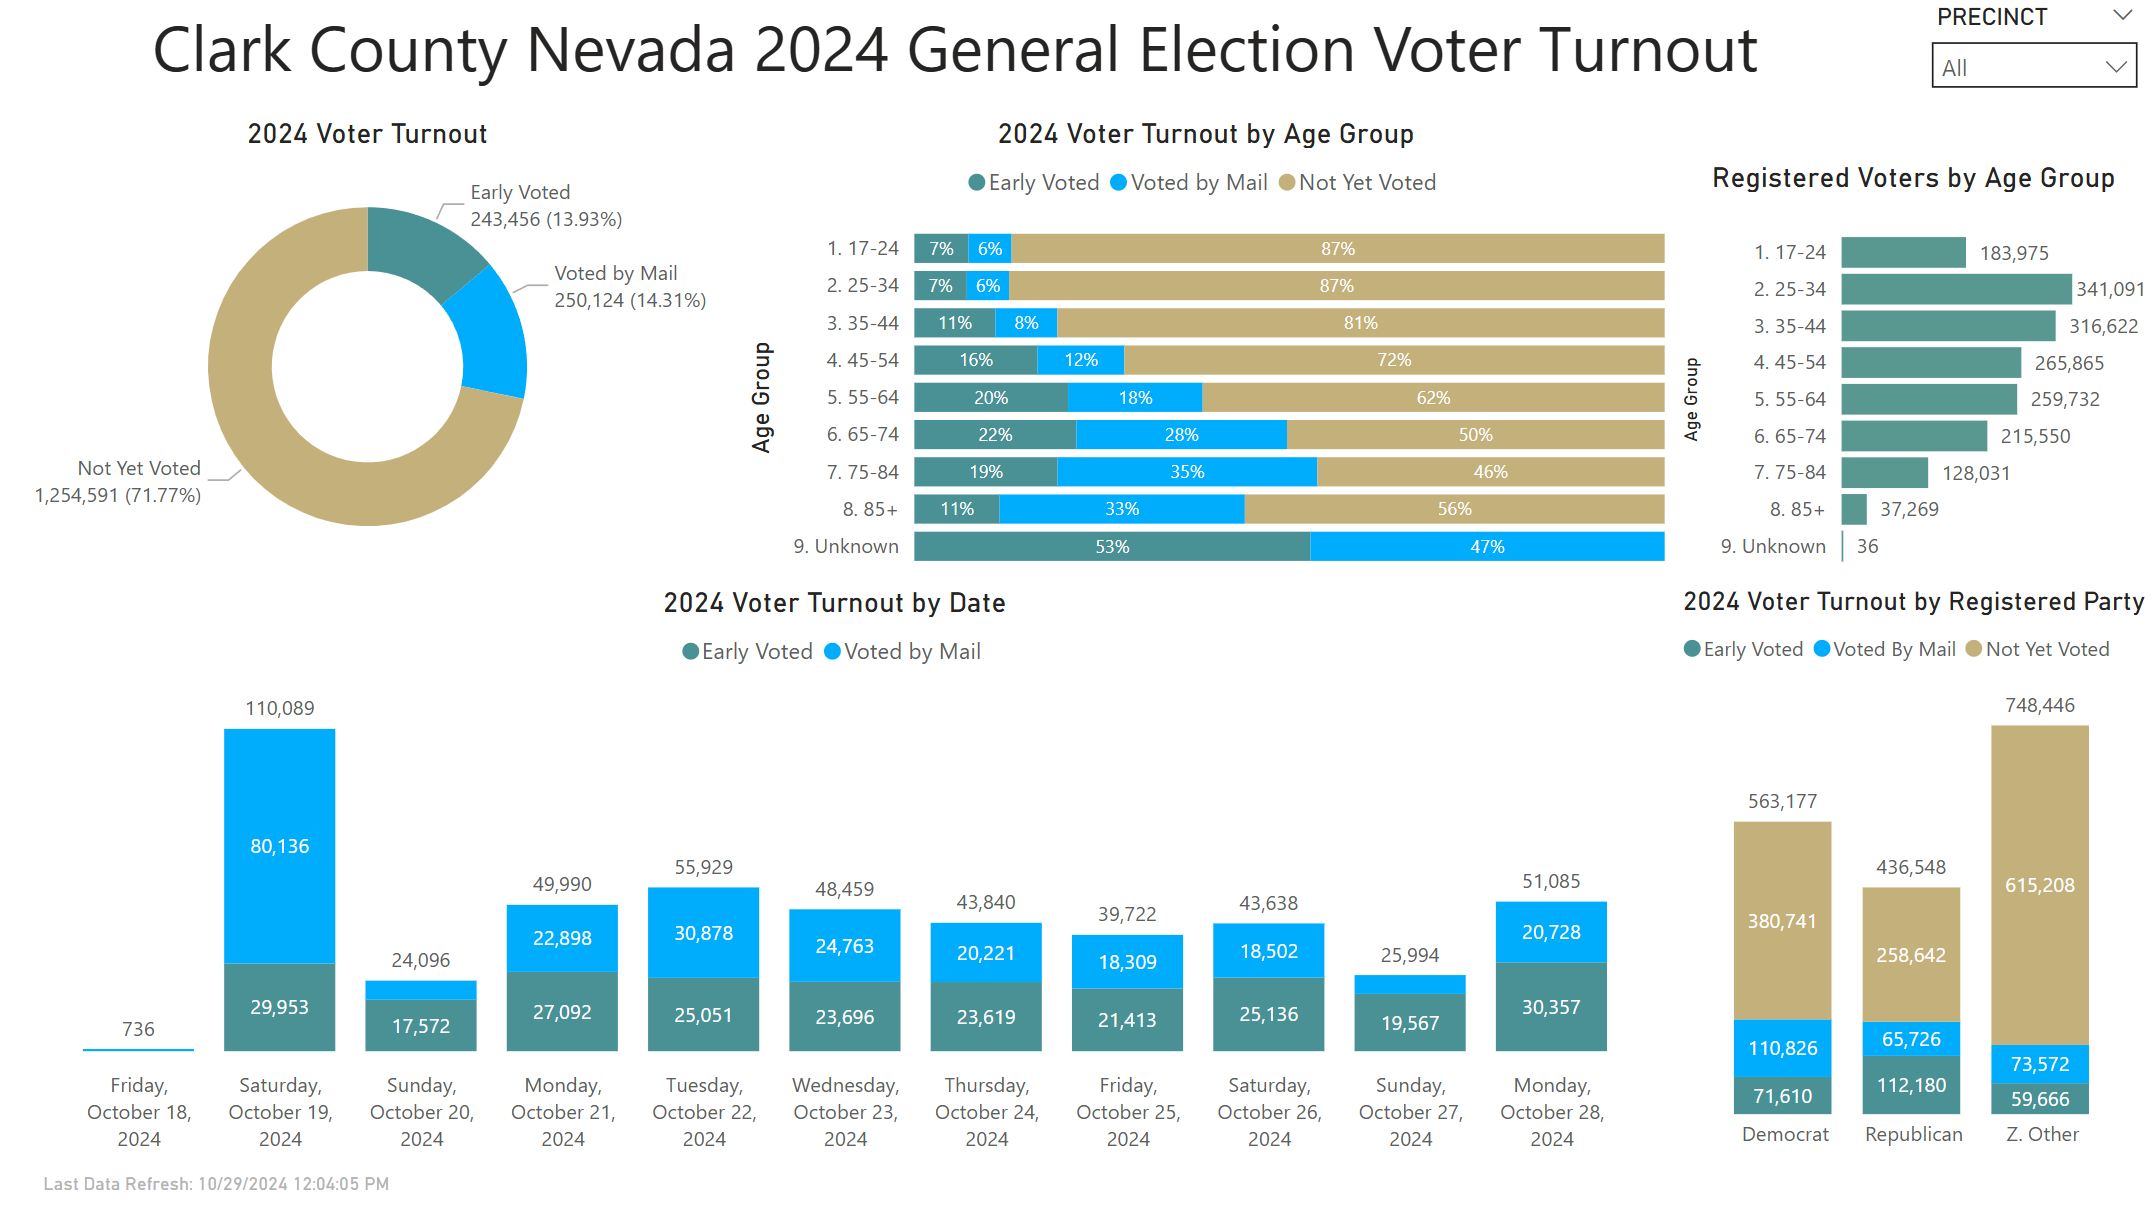

This screenshot's page, from the dashboard's own definition file:
{"tool":"powerbi","page":{"name":"Dashboard","canvas":[1280,720],"ordinal":0},"visuals":[{"type":"columnChart","title":"2024 Voter Turnout by Date","fields":{"Category":["VoteStatus_20241028.G2024_Voted_Date"],"Y":["Sum(VoteStatus_20241028.Voted_Early)","Sum(VoteStatus_20241028.Voted_Mail)"]},"box":[0,349.7,995.1,343.8],"z":0},{"type":"donutChart","title":"2024 Voter Turnout","fields":{"Y":["Sum(VoteStatus_20241028.Voted_Early)","Sum(VoteStatus_20241028.Voted_Mail)","Sum(VoteStatus_20241028.Not_Voted)"]},"box":[0,71.6,440.7,278.4],"z":1000},{"type":"hundredPercentStackedBarChart","title":"2024 Voter Turnout by Age Group","fields":{"Category":["VoteStatus_20241028.Age_Group"],"Y":["Sum(VoteStatus_20241028.Voted_Early)","Sum(VoteStatus_20241028.Voted_Mail)","Sum(VoteStatus_20241028.Not_Voted)"]},"box":[440.7,71.6,554.1,278.4],"z":2000},{"type":"textbox","title":"Title","box":[0,0,1138,71.6],"z":3000},{"type":"columnChart","title":"2024 Voter Turnout by Registered Party","fields":{"Category":["VoteStatus_20241028.PARTY"],"Y":["Sum(VoteStatus.Voted_Early)","Sum(VoteStatus.Voted_Mail)","Sum(VoteStatus.Not_Voted)"]},"box":[995.1,349.7,284.9,343.8],"z":4000},{"type":"slicer","title":"Precinct Slicer","fields":{"Values":["VoteStatus_20241028.PRECINCT"]},"box":[1138,0,142.4,59.8],"z":5000},{"type":"barChart","title":"Registered Voters by Age Group","fields":{"Category":["VoteStatus_20241028.Age_Group"],"Y":["Sum(VoteStatus.QTY)"]},"box":[994.8,97.9,285.6,252.1],"z":6000},{"type":"card","title":"Last Data Refresh","fields":{"Values":["Reload Time.Refresh Time Label"]},"box":[0,693.5,261.3,26.5],"z":7000}]}

Visuals, with their boxes in screenshot pixels (x1, y1, x2, y2), scaled from the page's 1280x720 canvas onto the 2153x1207 screenshot:
"2024 Voter Turnout by Date" columnChart: 0,586,1674,1163
"2024 Voter Turnout" donutChart: 0,120,741,587
"2024 Voter Turnout by Age Group" hundredPercentStackedBarChart: 741,120,1673,587
"Title" textbox: 0,0,1914,120
"2024 Voter Turnout by Registered Party" columnChart: 1674,586,2152,1163
"Precinct Slicer" slicer: 1914,0,2152,100
"Registered Voters by Age Group" barChart: 1673,164,2152,587
"Last Data Refresh" card: 0,1163,440,1206
